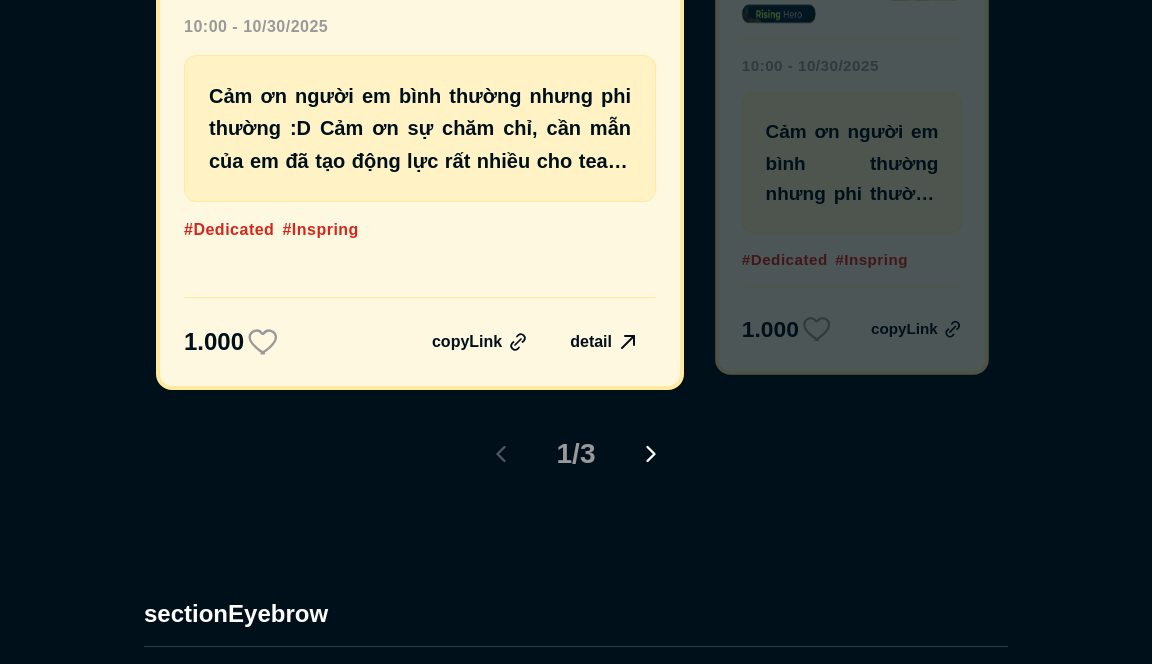
it: KudosBoardContainer › like toggle › optimistically flips the heart then reconciles with the action result
This screenshot has width=1152, height=664.
(page scrolled)
Click the button "1.000" in the row of "detail": (232, 342) [184,326,280,358]
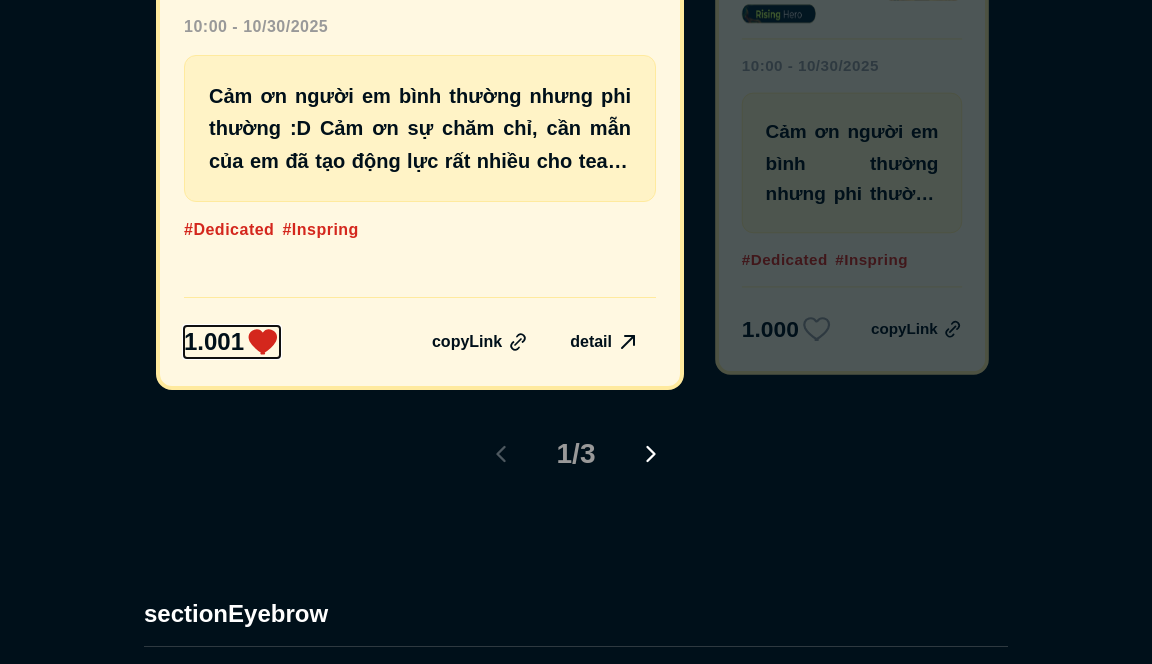
Expected: the button "1.001" is shown, [184,326,280,358]
